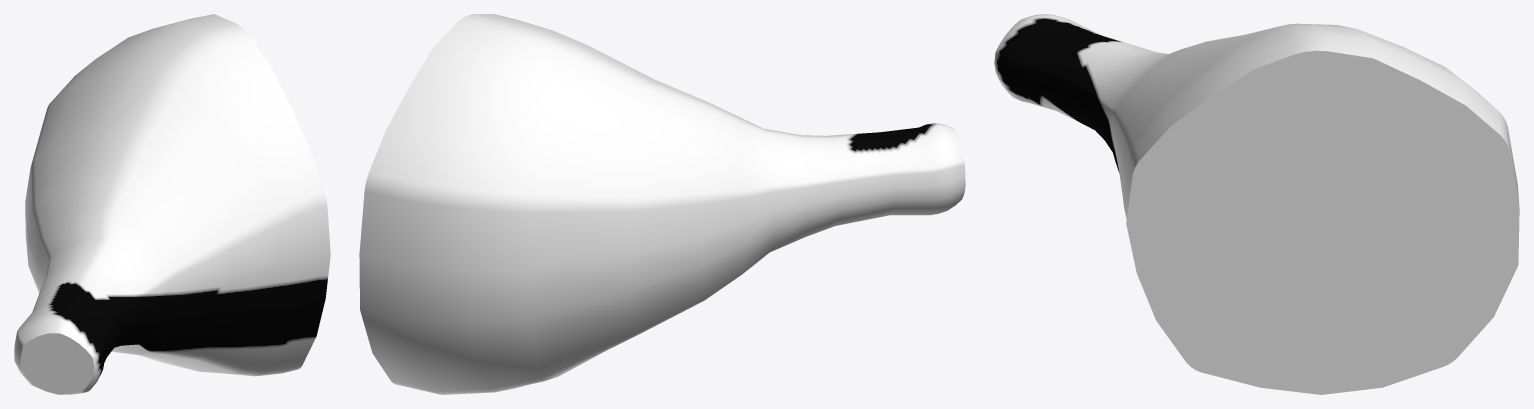
File: top_banana3.fbx
3 renders of one model, left to right at view 1: azimuth 30°, elevation 25°; view 2: azimuth 150°, elevation 25°; view 3: azimuth 270°, elevation 25°, orthographic. The views are drawn at different scales.
Visible parts, largest first — view 1: top; view 2: top; view 3: top.
Part boxes in pixels (x1,y1,x2,y2): top: [14, 14, 330, 394]; top: [359, 14, 965, 394]; top: [994, 14, 1519, 394].
Bounding box in the file's own units: 93.96 × 84.5 × 117.
